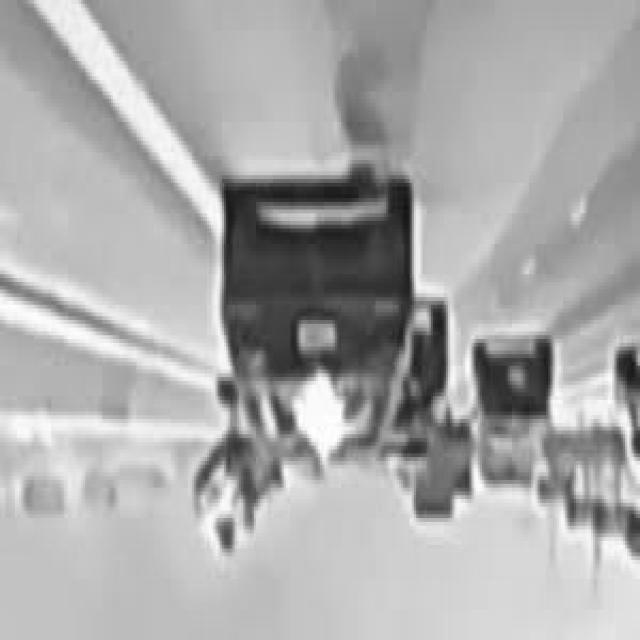severe: (190, 432, 290, 578)
